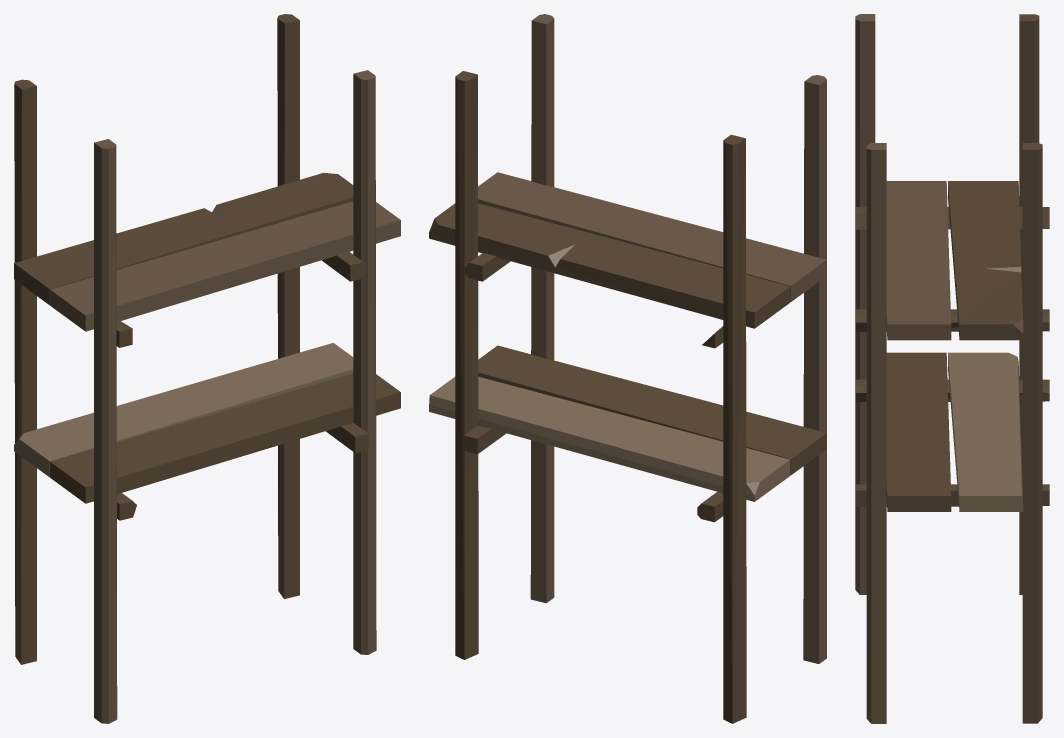
The model's file is EA03_Prop_House_Shelf_01c.fbx.
3 renders of one model, left to right at view 1: azimuth 30°, elevation 25°; view 2: azimuth 150°, elevation 25°; view 3: azimuth 270°, elevation 25°, orthographic.
Parts seen in each view (by area): view 1: EA03_Prop_House_Shelf_01c_LOD0; view 2: EA03_Prop_House_Shelf_01c_LOD0; view 3: EA03_Prop_House_Shelf_01c_LOD0.
Boxes of the visible parts, x1=… form: EA03_Prop_House_Shelf_01c_LOD0: x1=14, y1=14, x2=400, y2=723; EA03_Prop_House_Shelf_01c_LOD0: x1=429, y1=14, x2=826, y2=723; EA03_Prop_House_Shelf_01c_LOD0: x1=855, y1=14, x2=1049, y2=723.
Size of what is drawn, in the model's own units: 1.4 by 2.39 by 0.7349.
